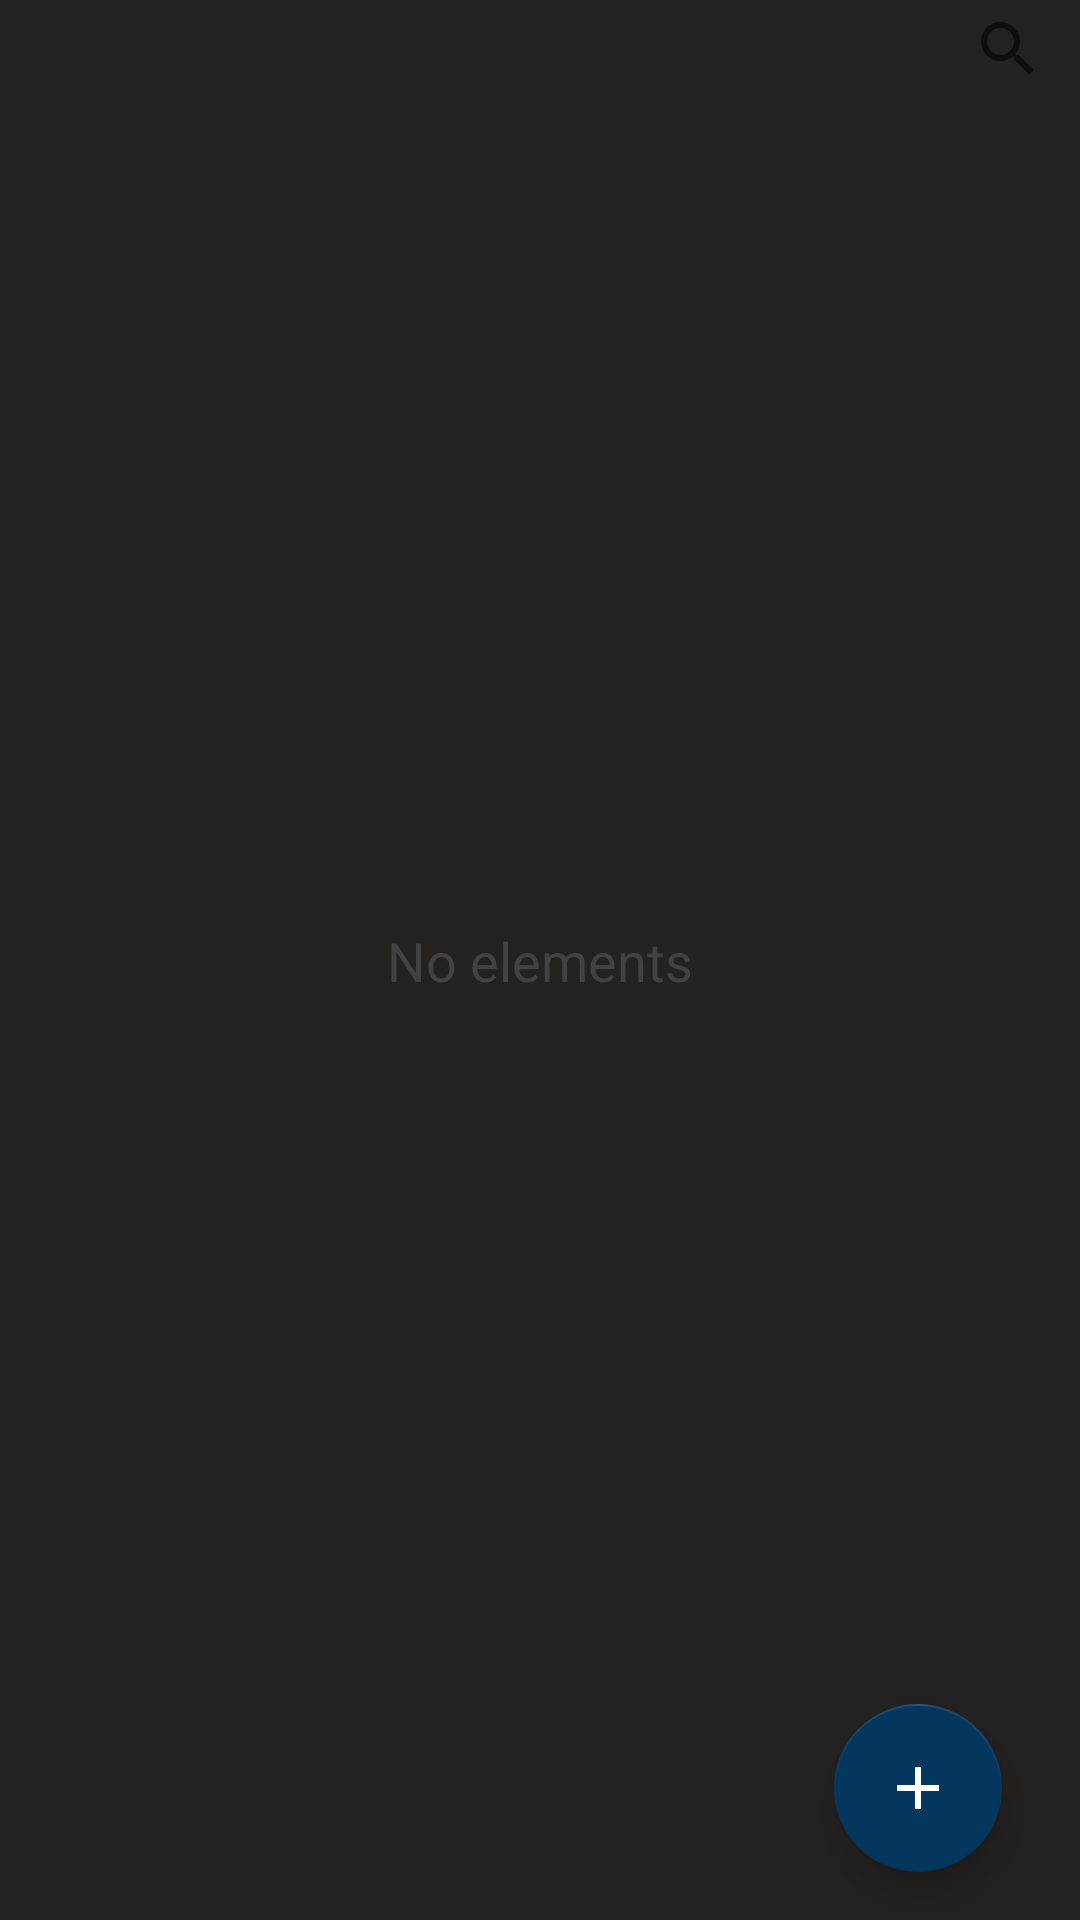

Icon click points for this 1080w x 1920h phone screenshot, format (x,y):
add: (918,1788)
